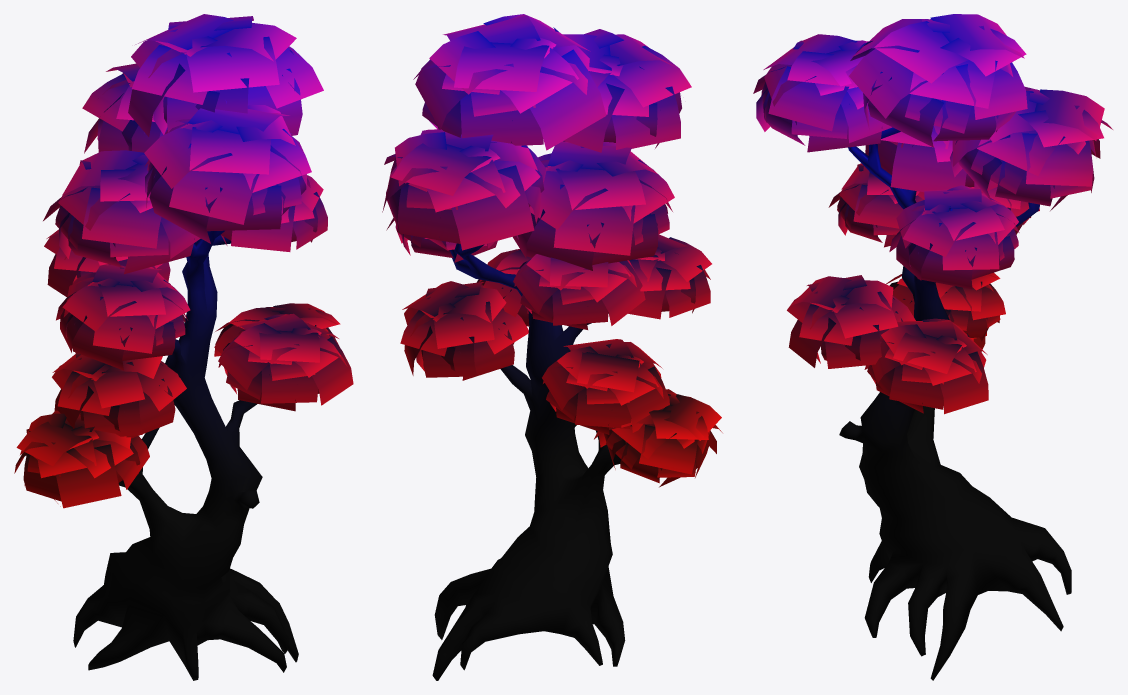
The model's file is tree1_C.fbx.
3 renders of one model, left to right at view 1: azimuth 30°, elevation 25°; view 2: azimuth 150°, elevation 25°; view 3: azimuth 270°, elevation 25°, orthographic. The views are drawn at different scales.
Parts seen in each view (by area): view 1: Tree_01_a_LOD0; view 2: Tree_01_a_LOD0; view 3: Tree_01_a_LOD0.
Boxes of the visible parts, box(x1,y1,x2,y2) form: Tree_01_a_LOD0: box(14, 14, 353, 680); Tree_01_a_LOD0: box(382, 14, 722, 680); Tree_01_a_LOD0: box(753, 14, 1112, 680).
Bounding box in the file's own units: 530 × 1036 × 549.
